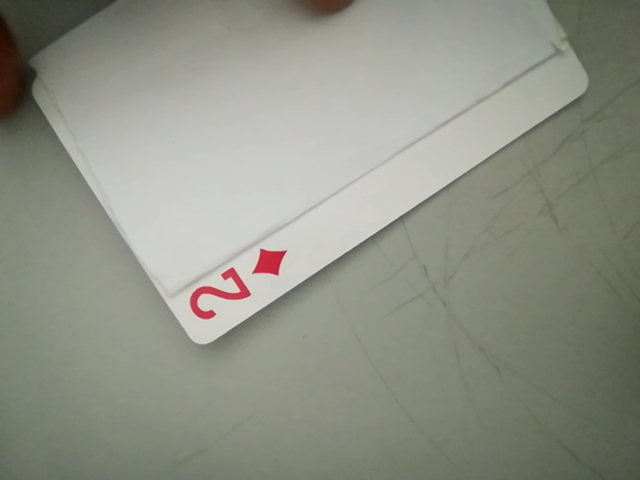fk 2: (178, 244, 296, 335)
